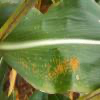Corn rust leaf: (0, 1, 67, 100)
